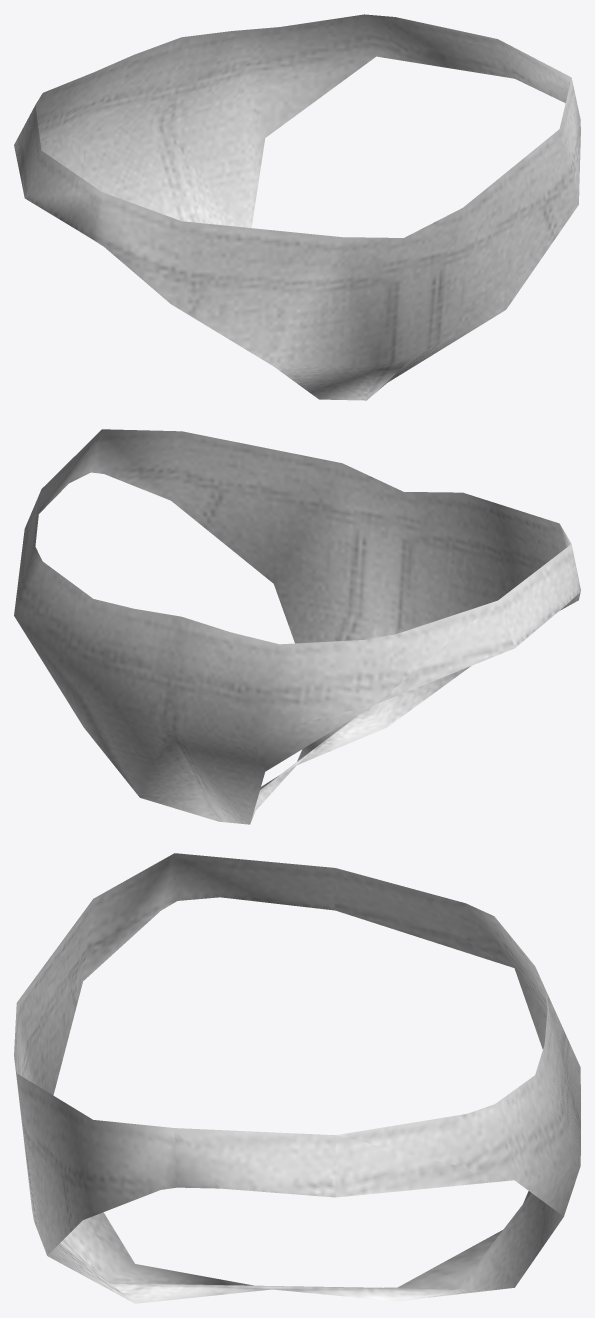
Rendered from Underwear.glb.
3 renders of one model, top to bottom at view 1: azimuth 30°, elevation 25°; view 2: azimuth 150°, elevation 25°; view 3: azimuth 270°, elevation 25°, orthographic. The views are drawn at different scales.
Parts seen in each view (by area): view 1: Underwear; view 2: Underwear; view 3: Underwear.
Part boxes in pixels (x1=…): Underwear: x1=14, y1=14, x2=580, y2=400; Underwear: x1=14, y1=429, x2=580, y2=824; Underwear: x1=14, y1=853, x2=580, y2=1303.
Size of the model in its own units: 5.54 by 2.7 by 4.56.
Materials: 1 (1 with a texture image).
